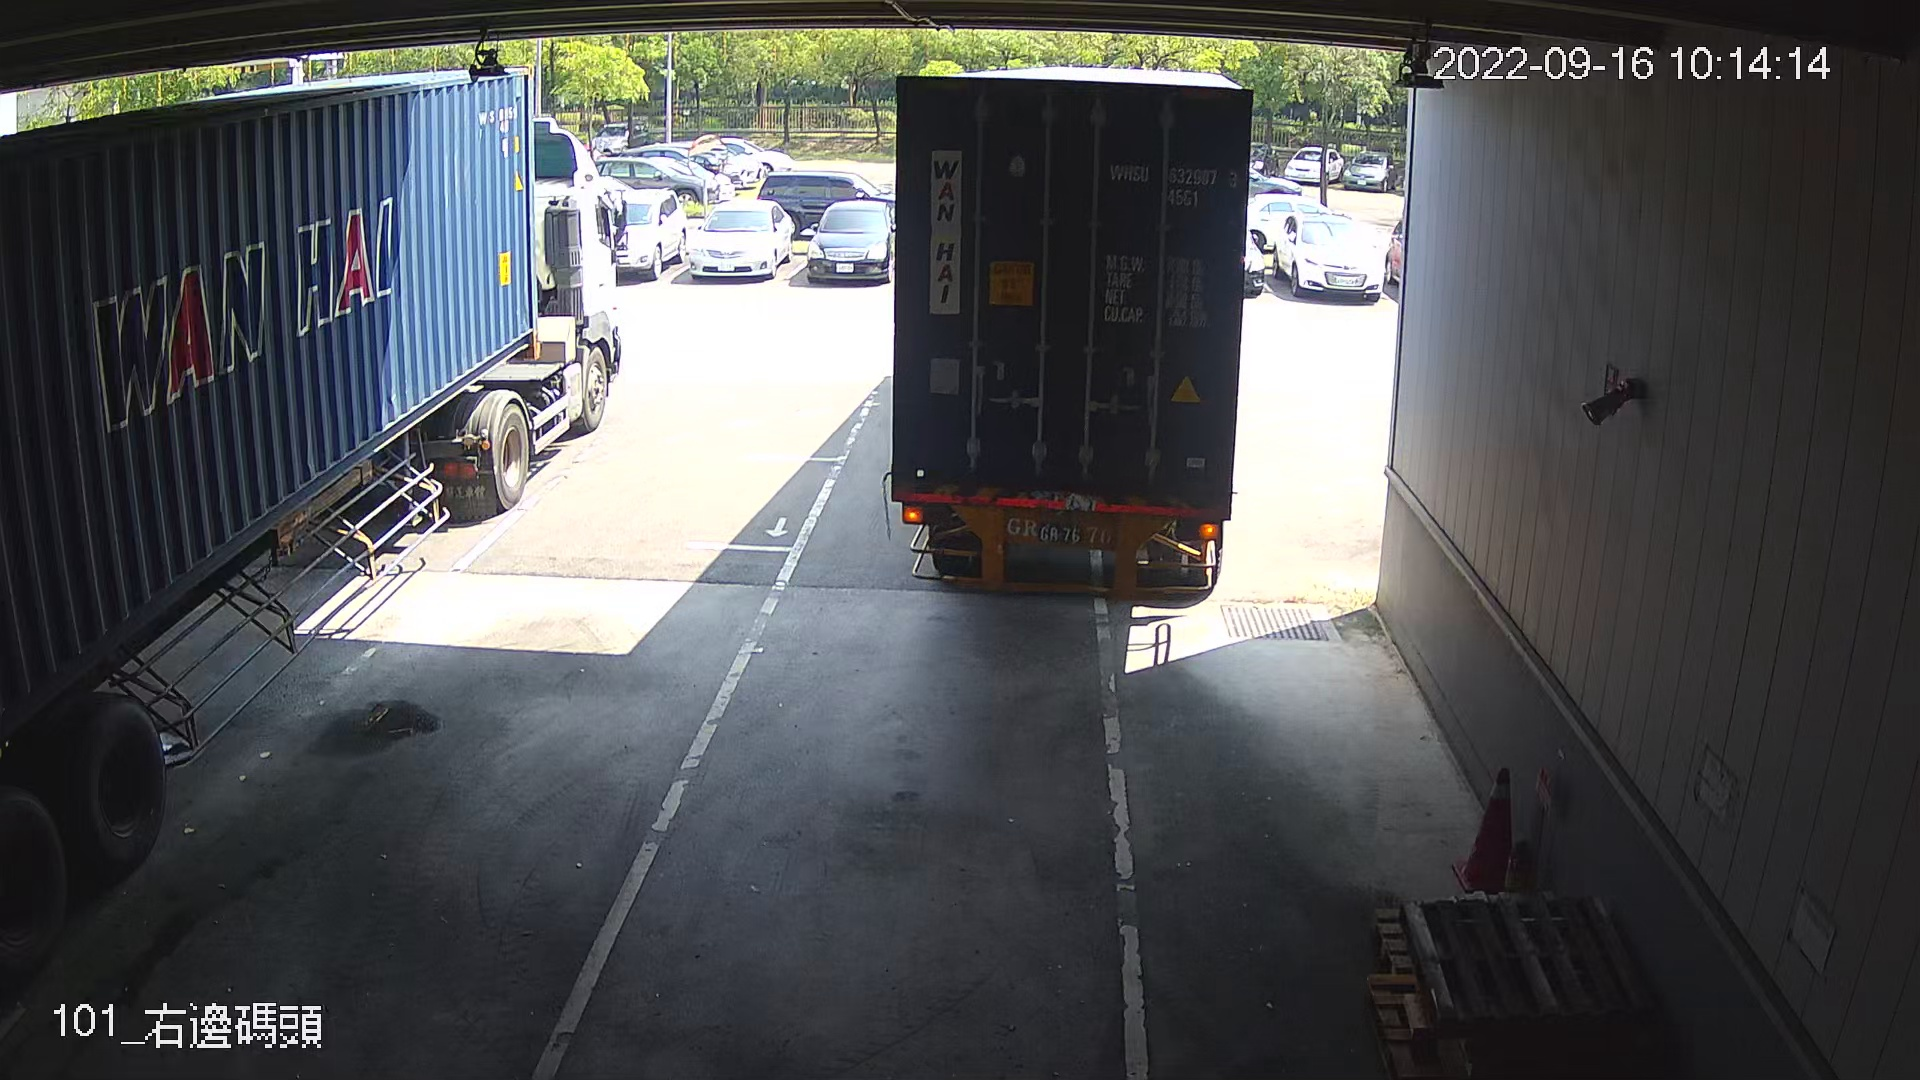container: (1104, 156, 1244, 216)
